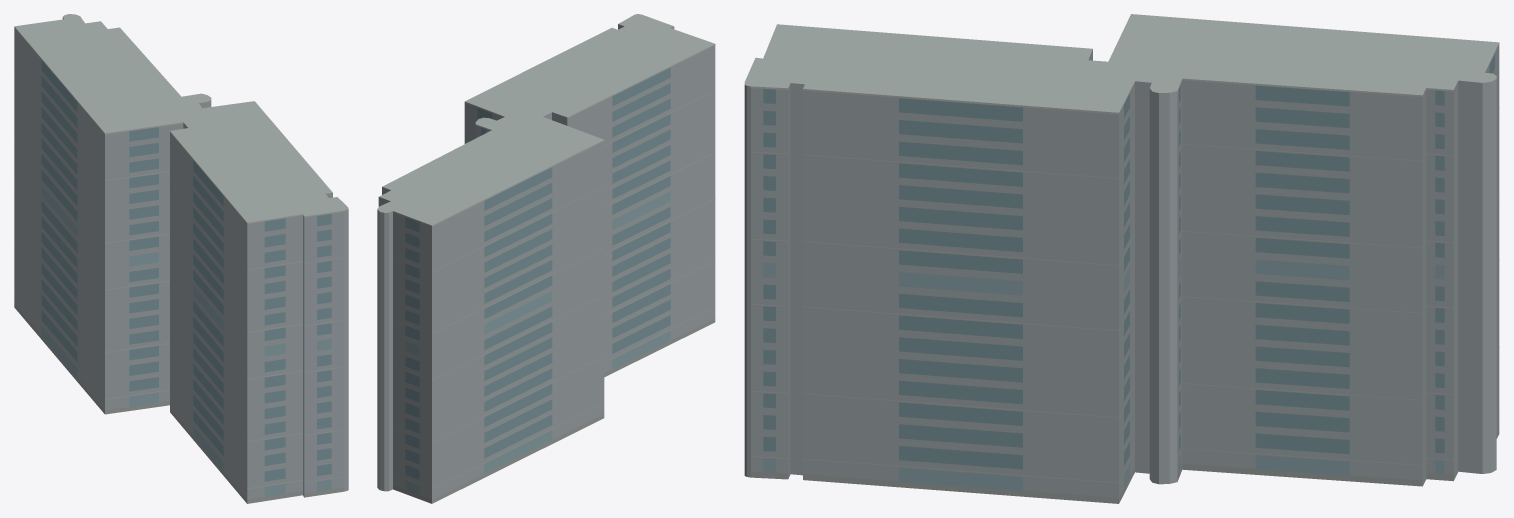
File: survey-upis-32720298.glb
The picture shows the model from 3 angles, left to right: view 1: azimuth 30°, elevation 25°; view 2: azimuth 150°, elevation 25°; view 3: azimuth 270°, elevation 25°; orthographic projection. The views are drawn at different scales.
Visible parts, largest first — view 1: survey-upis-32720298.tmp; view 2: survey-upis-32720298.tmp; view 3: survey-upis-32720298.tmp.
Part boxes in pixels (bbox=[...]): survey-upis-32720298.tmp: bbox=[14, 14, 348, 503]; survey-upis-32720298.tmp: bbox=[377, 14, 715, 503]; survey-upis-32720298.tmp: bbox=[744, 14, 1499, 503].
Size of the model in its own units: 29.26 by 54 by 94.46.
